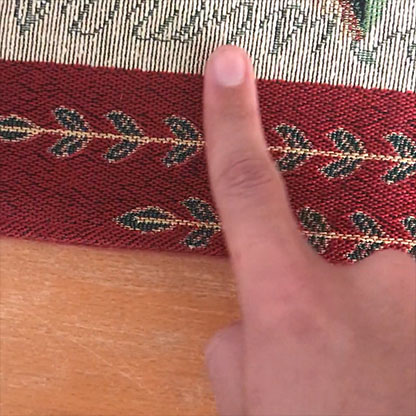fingertip: (194, 28, 273, 109)
